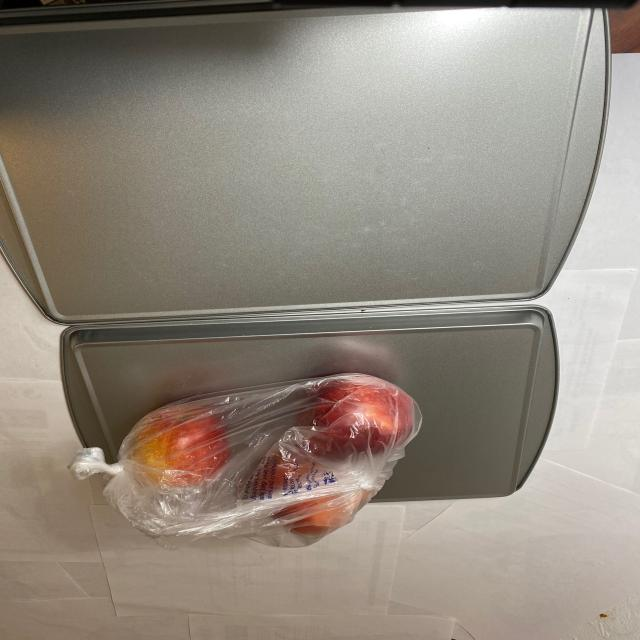apple: (103, 369, 419, 537)
